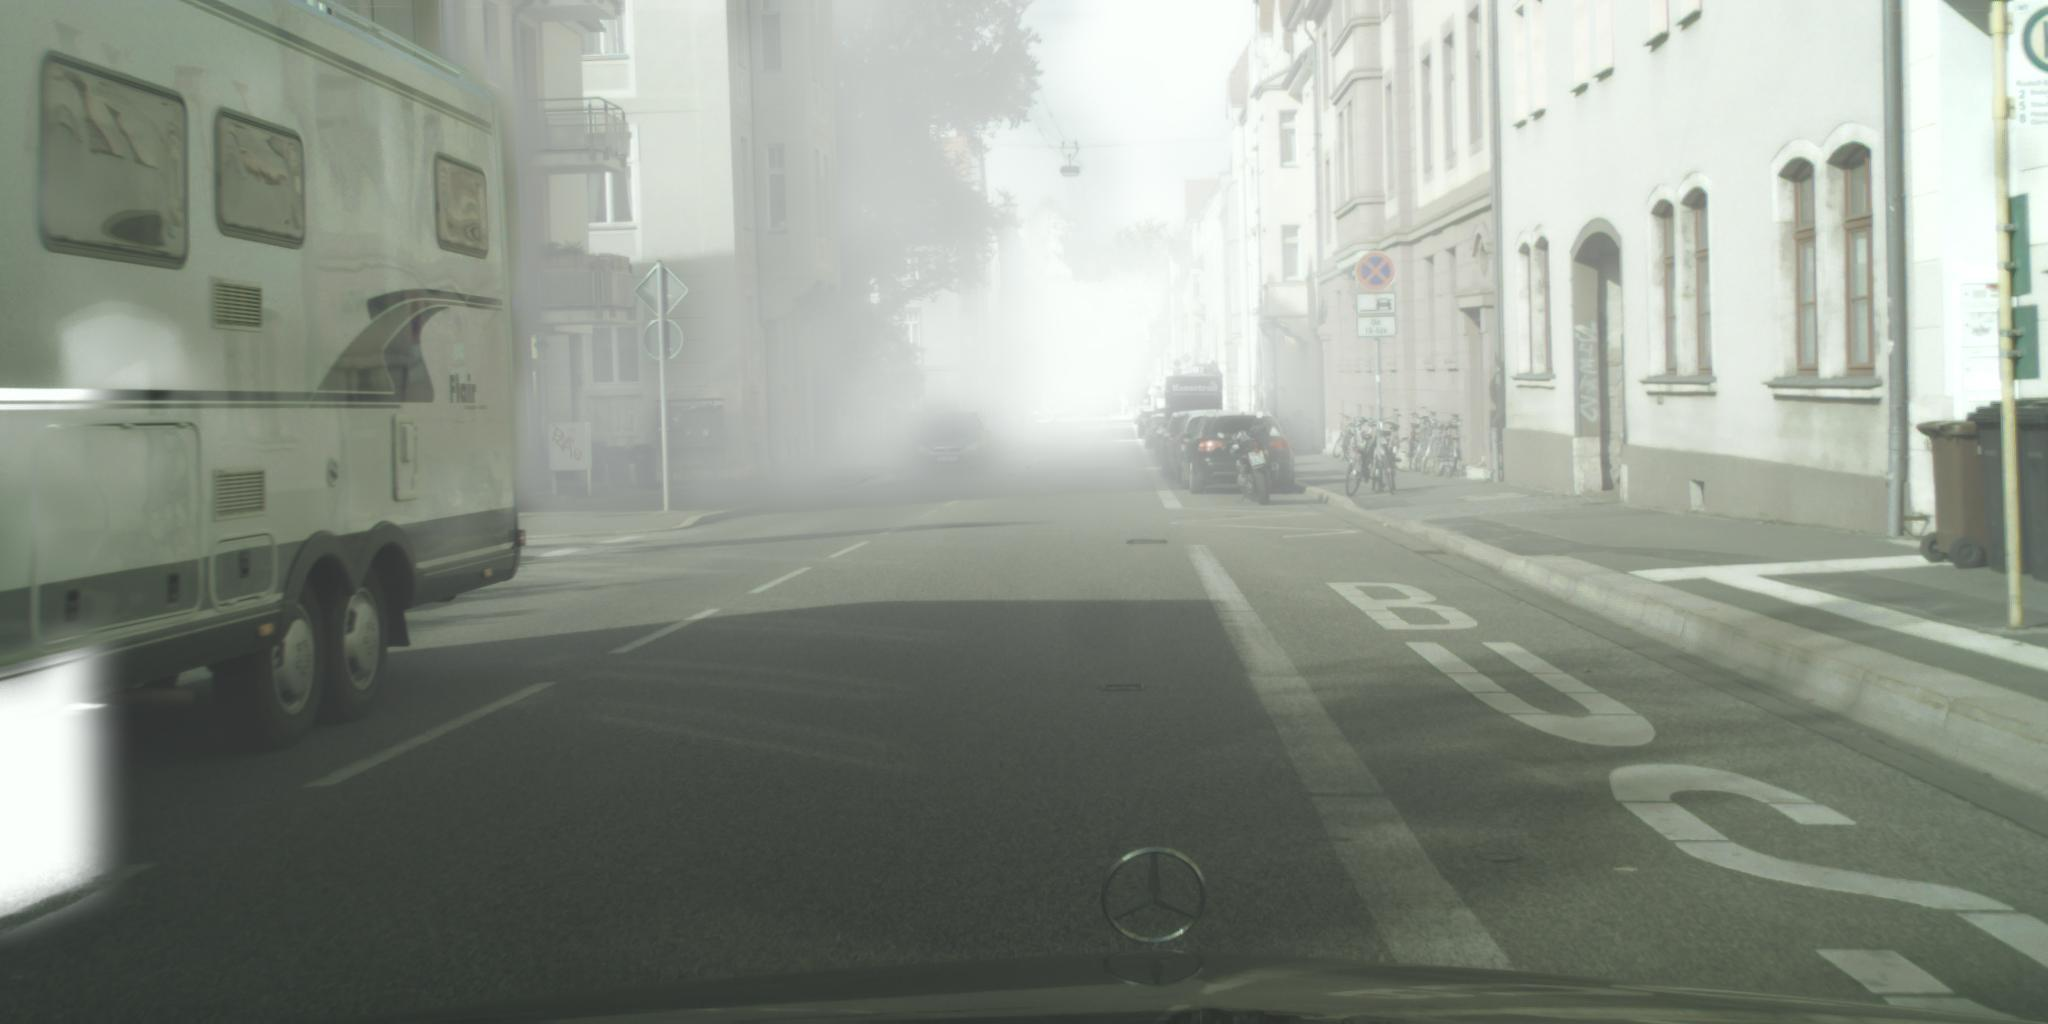car: (1179, 410, 1296, 495), (1176, 409, 1245, 486), (914, 413, 991, 479), (1159, 410, 1224, 478), (1143, 413, 1177, 453), (1138, 408, 1174, 441), (1132, 404, 1160, 427), (1081, 404, 1109, 419)
motorcycle: (1216, 409, 1283, 508)
truck: (1166, 374, 1224, 430)
